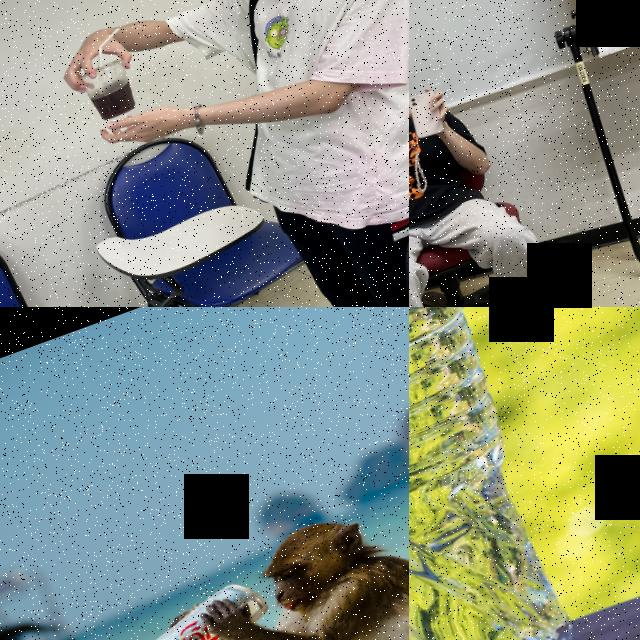bottle: (409, 307, 599, 640)
can: (85, 573, 289, 640)
cup: (76, 56, 143, 126)
